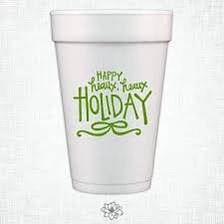paper_cup: (42, 3, 178, 200)
